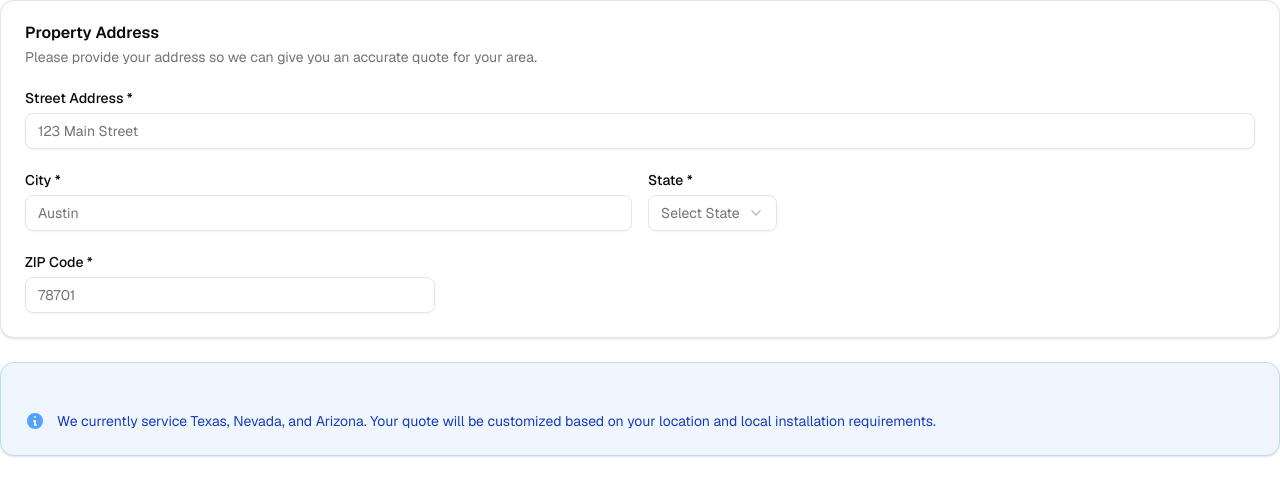
it: AddressStep › validates required fields and shows error messages
Focus and blur to trigger validation
Click the field labelled "Street Address *". click: (640, 131)
box: [25,113,1255,149]
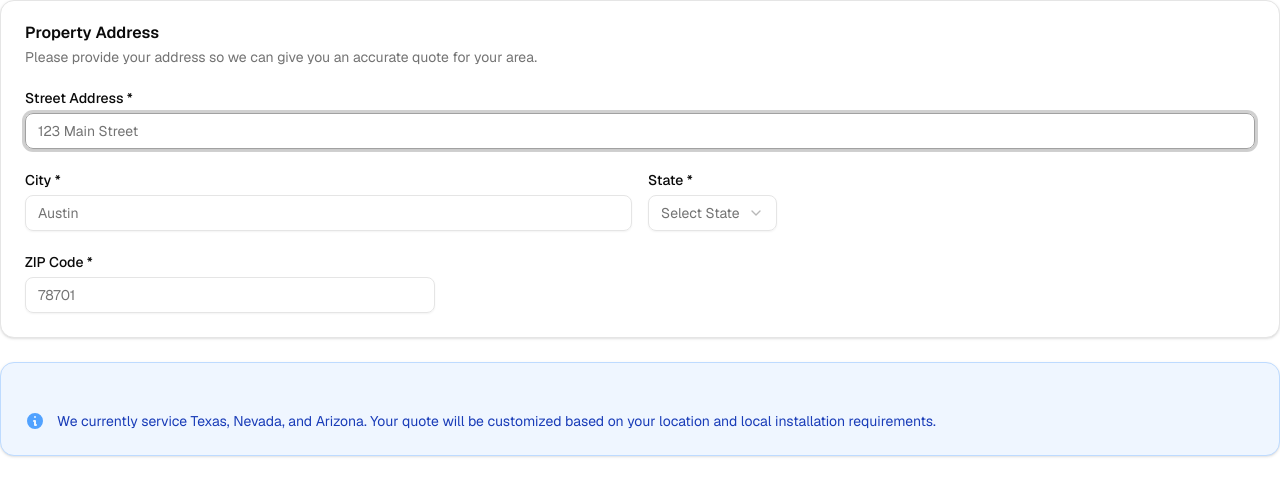
Press Tab
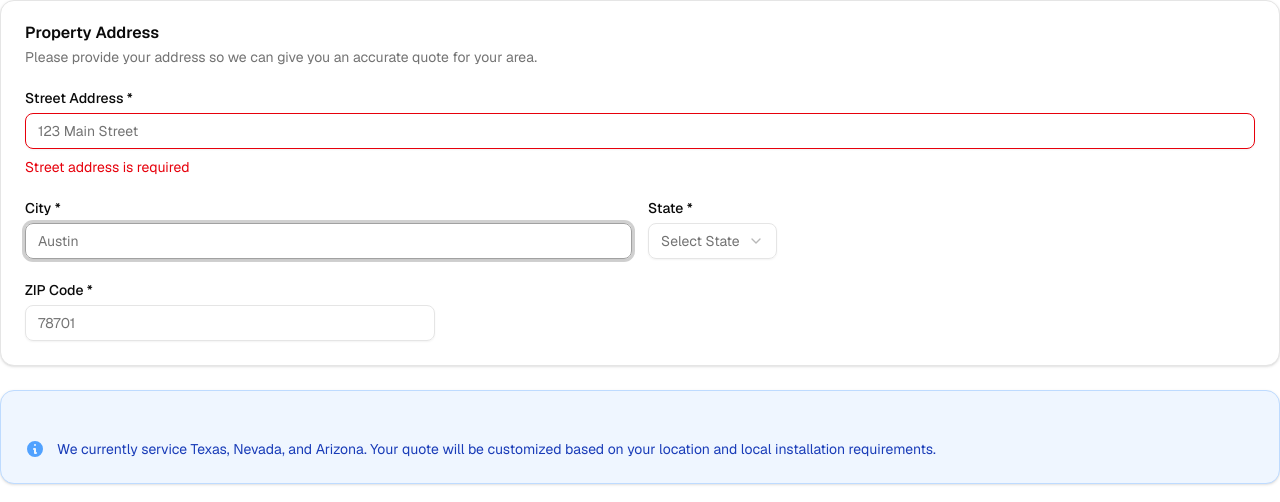
Now the text "Street address is required" is shown, box [25,158,190,176]
